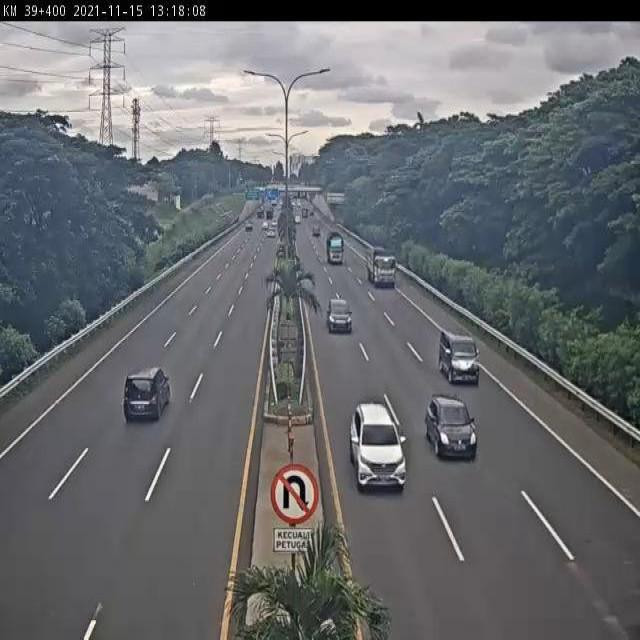car: (349, 400, 407, 487), (425, 395, 479, 463), (123, 366, 174, 422), (438, 325, 479, 384), (327, 297, 354, 336)
